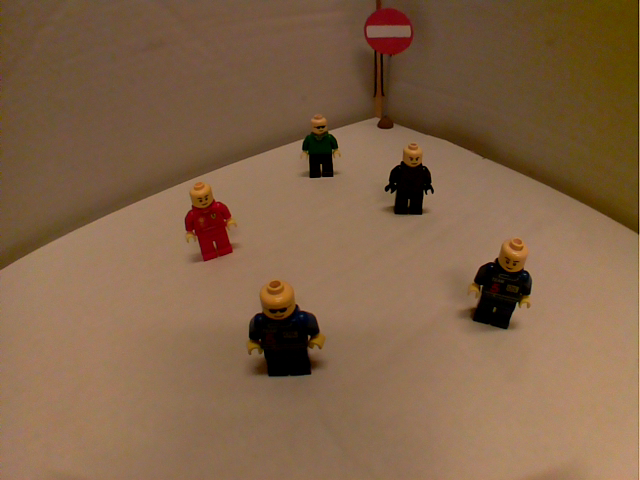Postac LEGO: (240, 276, 333, 386), (463, 235, 539, 338), (181, 179, 242, 268), (383, 138, 438, 222), (295, 108, 344, 181)
Zakaz: (359, 4, 419, 61)
